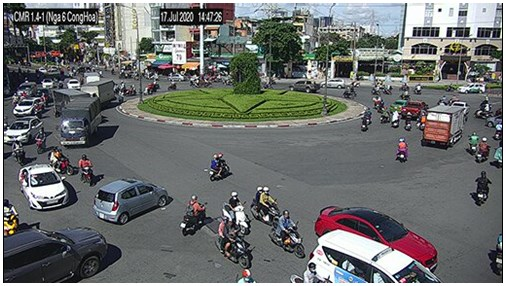xe_hoi: (314, 205, 438, 270), (305, 229, 442, 283), (4, 226, 107, 283), (93, 178, 170, 223), (17, 164, 70, 209), (4, 115, 42, 144), (13, 96, 45, 116), (289, 80, 319, 93), (458, 82, 485, 94), (320, 77, 345, 89), (486, 114, 502, 128), (67, 78, 80, 89)
xe_may: (217, 216, 250, 269), (269, 211, 304, 257), (251, 186, 282, 229), (181, 194, 207, 240), (222, 191, 248, 235), (47, 146, 75, 177), (475, 170, 491, 207), (210, 152, 229, 183), (3, 199, 18, 234), (79, 153, 93, 187), (12, 138, 26, 167), (475, 97, 492, 119), (396, 136, 409, 162), (477, 137, 490, 163), (36, 126, 46, 154), (372, 94, 383, 114), (468, 131, 477, 155), (404, 111, 413, 133), (417, 111, 426, 133), (493, 121, 502, 140), (381, 106, 391, 123), (33, 103, 44, 118), (392, 109, 400, 129), (398, 88, 412, 99), (342, 85, 352, 99), (125, 85, 136, 96), (143, 82, 152, 95), (117, 89, 125, 103), (167, 80, 178, 90), (437, 94, 447, 105), (361, 115, 367, 132), (414, 83, 422, 94)
xe_tai: (61, 95, 100, 147), (423, 105, 463, 149), (53, 88, 90, 114), (81, 81, 115, 107), (84, 71, 102, 82)
